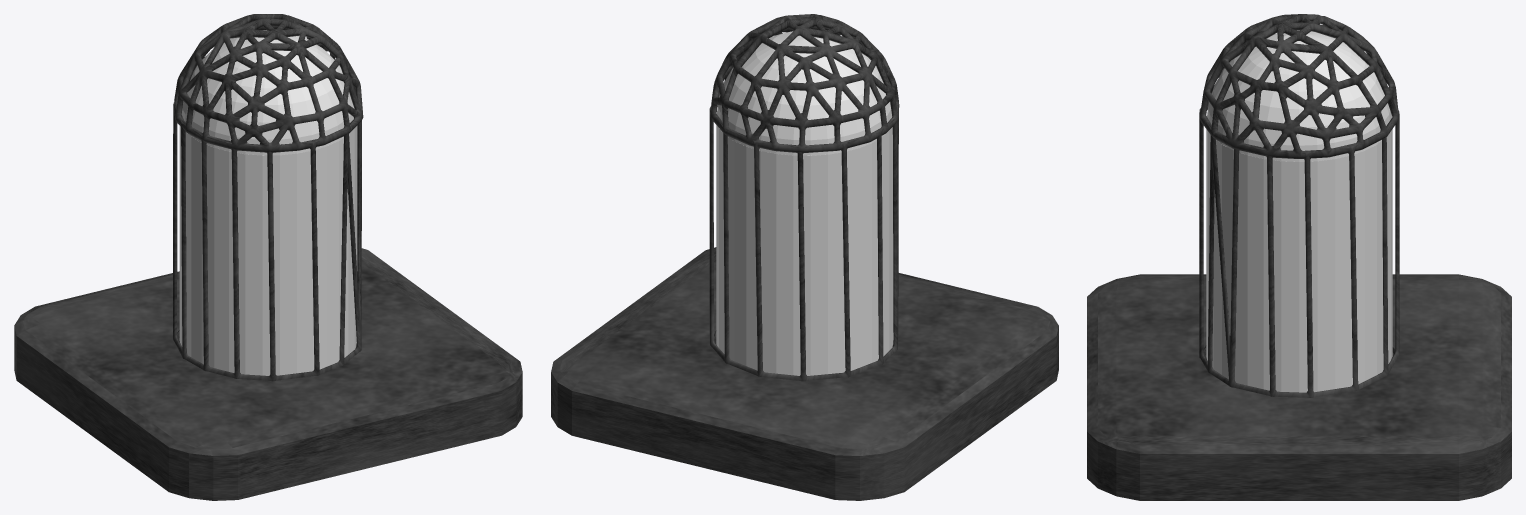
File: Lampe.glb
3 views of the same model, side by side, from view 1: azimuth 30°, elevation 25°; view 2: azimuth 150°, elevation 25°; view 3: azimuth 270°, elevation 25° (orthographic). The views are drawn at different scales.
Visible parts, largest first — view 1: Halterung, Birne, Gitter; view 2: Halterung, Birne, Gitter; view 3: Halterung, Birne, Gitter.
Part boxes in pixels (<box>): Halterung: <box>14,248,522,500</box>; Birne: <box>179,30,357,375</box>; Gitter: <box>173,14,363,381</box>; Halterung: <box>551,247,1058,500</box>; Birne: <box>716,31,893,375</box>; Gitter: <box>709,14,899,381</box>; Halterung: <box>1087,274,1511,500</box>; Birne: <box>1206,30,1392,392</box>; Gitter: <box>1199,14,1399,397</box>.
Bounding box in the file's own units: 5.71 × 5.88 × 5.71.
2 materials, 1 textured.
